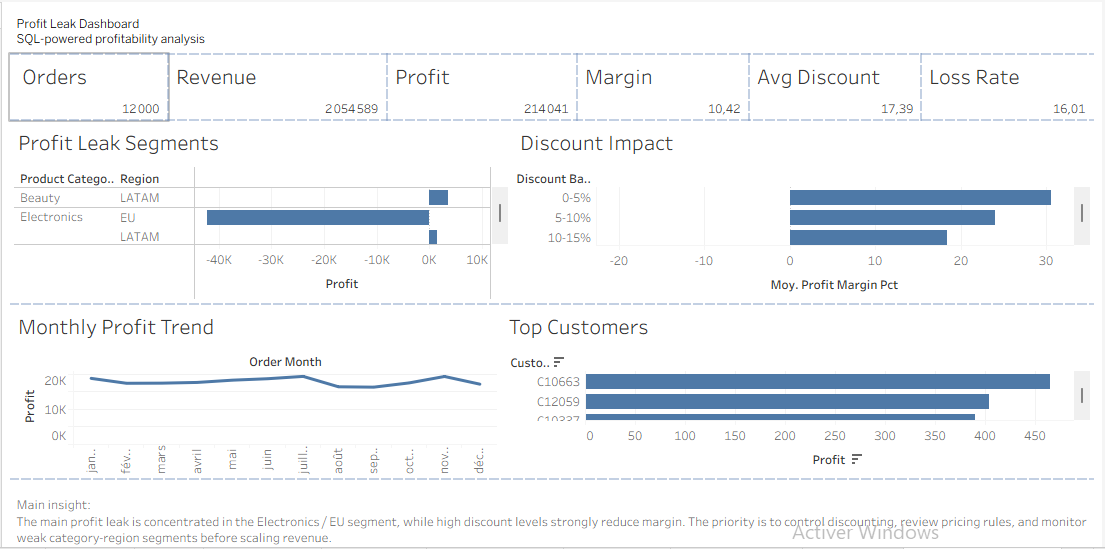

The page's visual inventory and layout, read from the dashboard file:
{"tool":"tableau","page":{"name":"Profit Leak Dashboard","canvas":[1100,570],"ordinal":0},"visuals":[{"type":"text","box":[8,8,1084,44]},{"type":"worksheet","title":" Orders","mark":"Automatic","box":[8,52,158,66]},{"type":"worksheet","title":"Revenue","mark":"Automatic","box":[166,52,219,66]},{"type":"worksheet","title":"Profit","mark":"Automatic","box":[385,52,190,66]},{"type":"worksheet","title":"Margin","mark":"Automatic","box":[575,52,171.7,66]},{"type":"worksheet","title":"Avg Discount","mark":"Automatic","box":[746.7,52,172.7,66]},{"type":"worksheet","title":"Loss Rate","mark":"Automatic","box":[919.3,52,172.7,66]},{"type":"worksheet","title":"Profit Leak Segments","mark":"Automatic","rows":["product_category","region"],"cols":["profit"],"box":[8,118,502,184]},{"type":"worksheet","title":"Discount Impact","mark":"Bar","rows":["discount_band"],"cols":["profit_margin_pct"],"box":[510,118,582,184]},{"type":"worksheet","title":"Monthly Profit Trend","mark":"Automatic","rows":["profit"],"cols":["order_month"],"box":[8,302,491,175]},{"type":"worksheet","title":"Top Customers","mark":"Automatic","rows":["customer_id"],"cols":["profit"],"box":[499,302,593,175]},{"type":"text","box":[8,477,1084,85]}]}

Visuals, with their boxes on the page's 1100x570 design canvas (x1, y1, x2, y2). These are canvas units, not pixel positions in the 1105x549 screenshot, which may show the page scaled, cropped or inside an application window:
text: 8/8/1092/52
" Orders" worksheet: 8/52/166/118
"Revenue" worksheet: 166/52/385/118
"Profit" worksheet: 385/52/575/118
"Margin" worksheet: 575/52/747/118
"Avg Discount" worksheet: 747/52/919/118
"Loss Rate" worksheet: 919/52/1092/118
"Profit Leak Segments" worksheet: 8/118/510/302
"Discount Impact" worksheet (Bar marks): 510/118/1092/302
"Monthly Profit Trend" worksheet: 8/302/499/477
"Top Customers" worksheet: 499/302/1092/477
text: 8/477/1092/562
